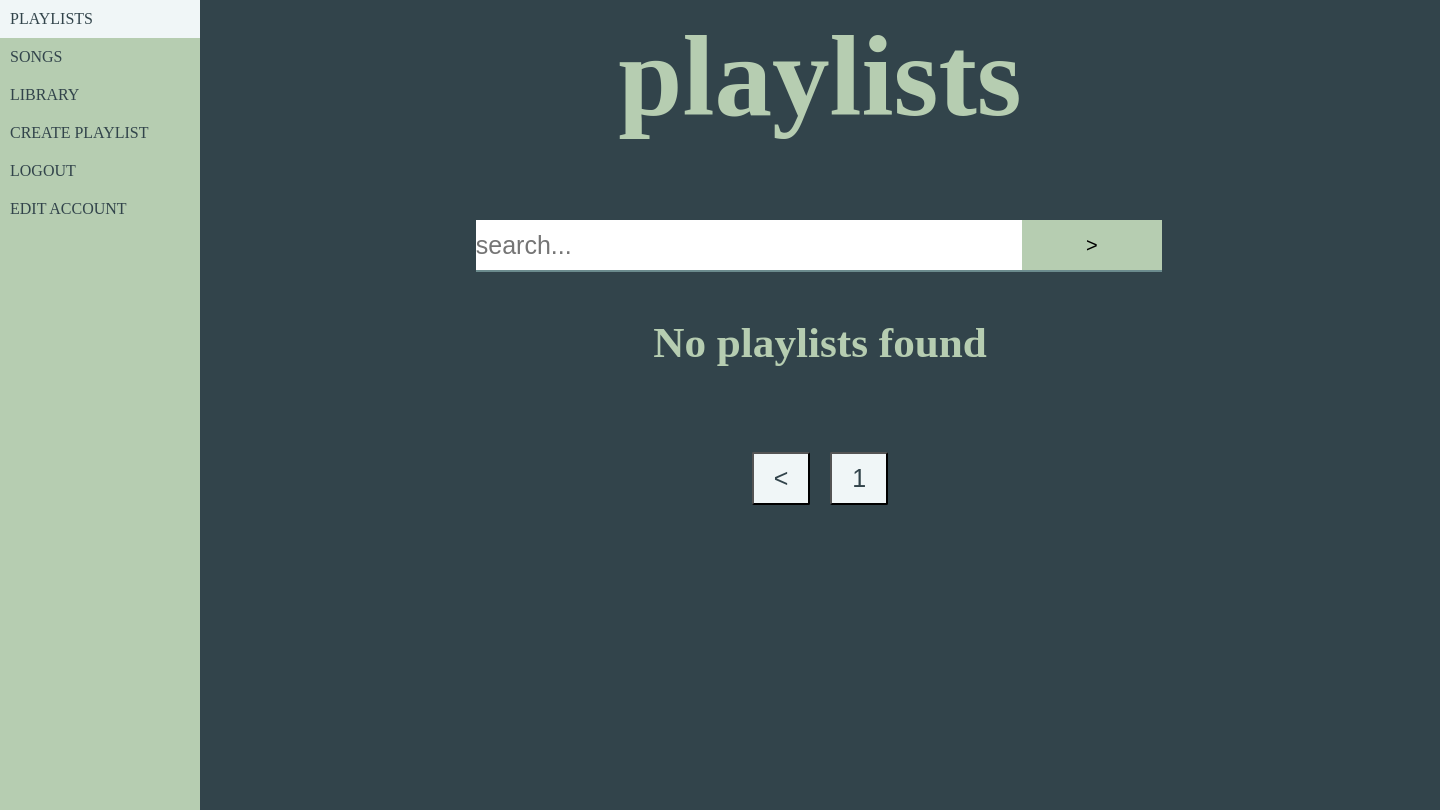
Test: tests main render with search
The width and height of the screenshot is (1440, 810).
Type "123" into the field with placeholder "search..." at (749, 246), box x1=476 y1=220 x2=1022 y2=272
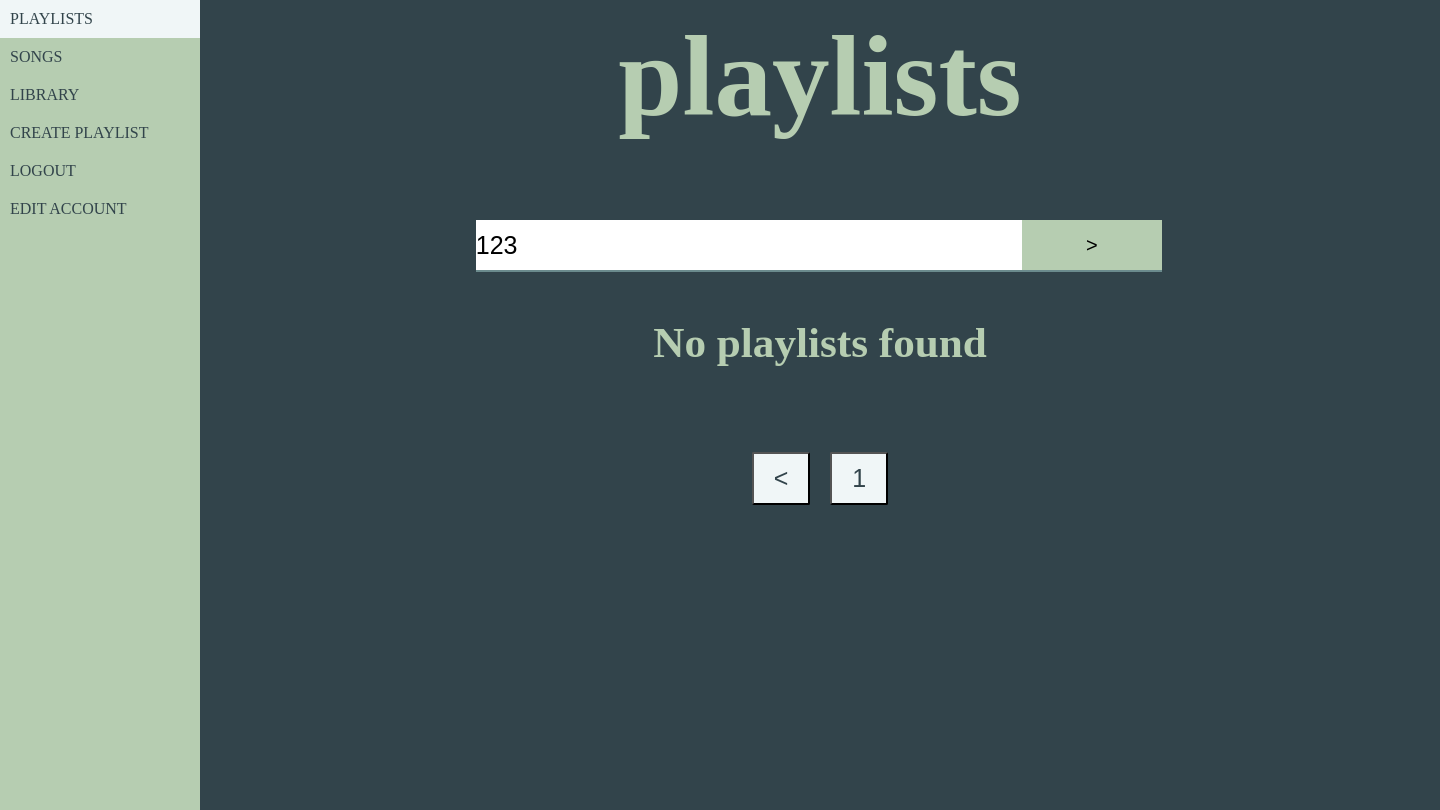
Click the button ">" at (1092, 246), box x1=1022 y1=220 x2=1162 y2=272
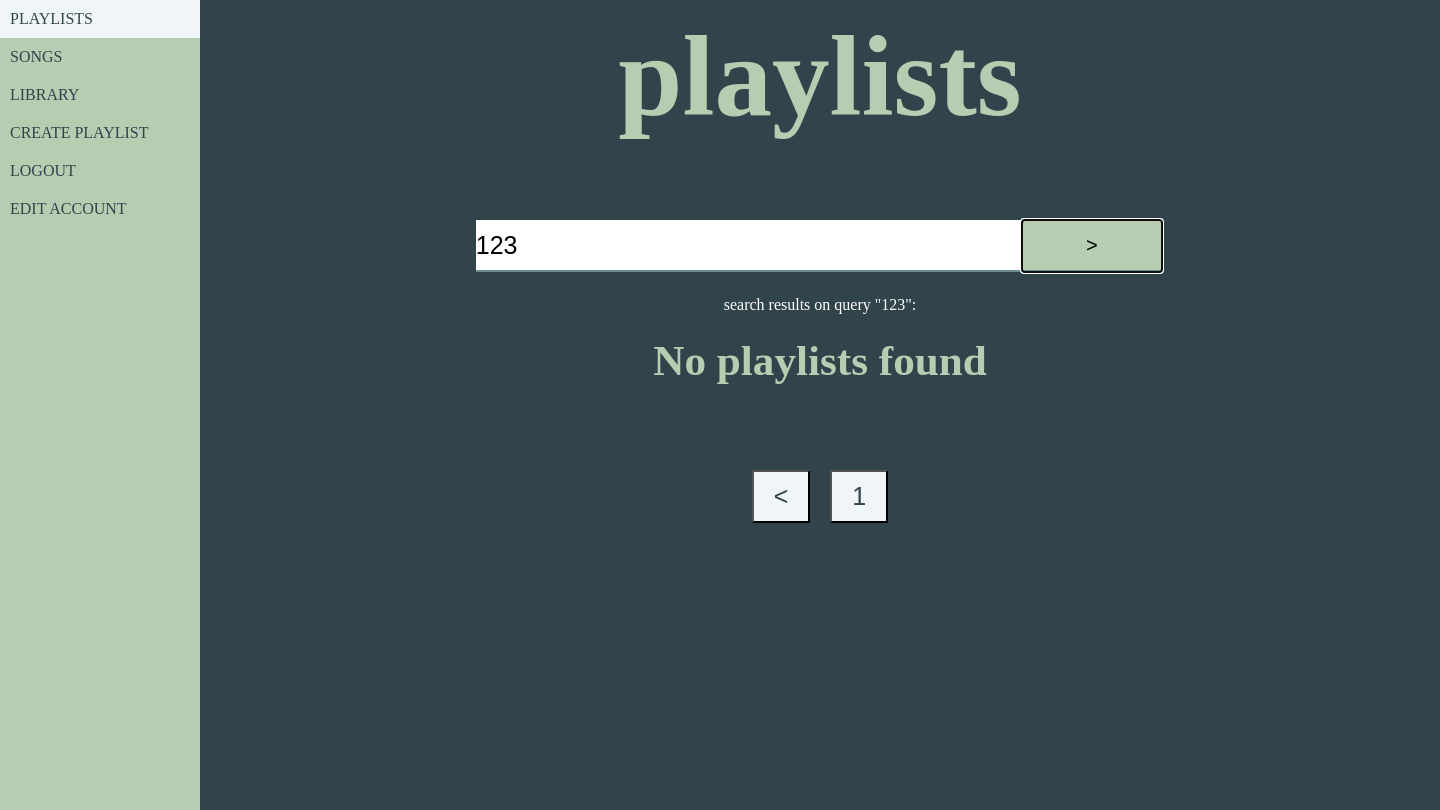
Expected: the text "search results on query \"123\":" is shown, x1=724 y1=296 x2=916 y2=313
